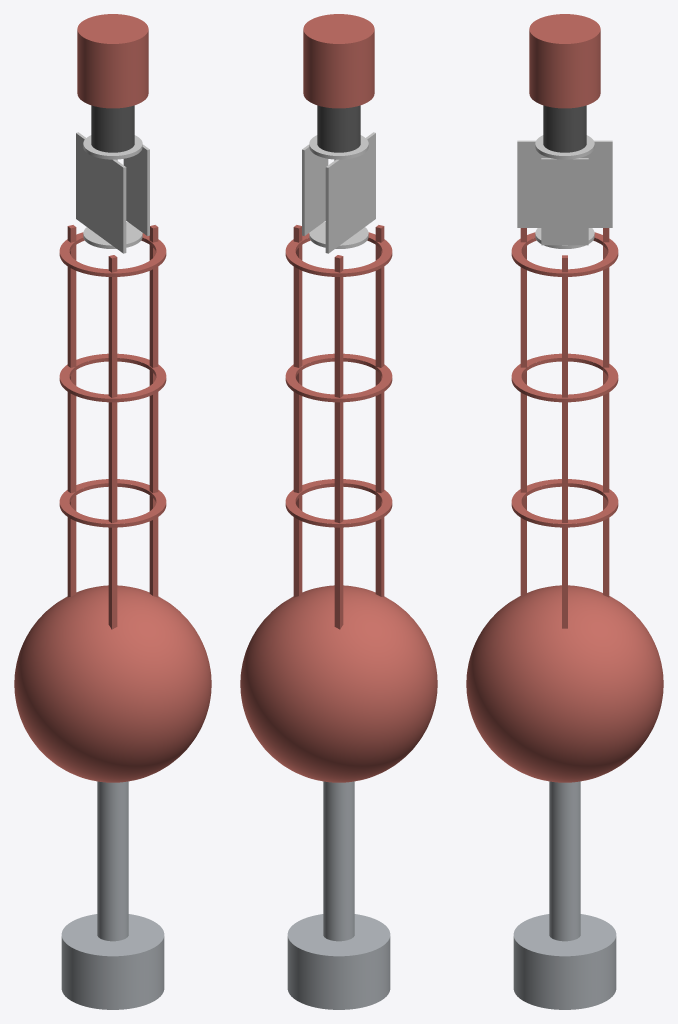
The model's file is esp2024_wind_buoy.glb.
3 renders of one model, left to right at view 1: azimuth 30°, elevation 25°; view 2: azimuth 150°, elevation 25°; view 3: azimuth 270°, elevation 25°, orthographic.
Parts seen in each view (by area): view 1: steel spherical float, lattice tower, tail and ballast, vertical axis wind turbine, topmark (can), lantern; view 2: steel spherical float, lattice tower, tail and ballast, vertical axis wind turbine, topmark (can), lantern; view 3: steel spherical float, tail and ballast, lattice tower, vertical axis wind turbine, topmark (can), lantern.
Boxes of the visible parts, bbox=[...] form: steel spherical float: bbox=[14, 585, 211, 782]; lattice tower: bbox=[59, 225, 166, 629]; tail and ballast: bbox=[61, 781, 164, 1009]; vertical axis wind turbine: bbox=[76, 132, 149, 253]; topmark (can): bbox=[77, 14, 148, 108]; lantern: bbox=[91, 105, 134, 152]; steel spherical float: bbox=[240, 585, 437, 782]; lattice tower: bbox=[285, 225, 392, 629]; tail and ballast: bbox=[287, 781, 390, 1009]; vertical axis wind turbine: bbox=[302, 132, 375, 253]; topmark (can): bbox=[303, 14, 374, 108]; lantern: bbox=[317, 105, 360, 152]; steel spherical float: bbox=[466, 585, 663, 782]; tail and ballast: bbox=[513, 781, 616, 1009]; lattice tower: bbox=[511, 228, 618, 628]; vertical axis wind turbine: bbox=[517, 135, 612, 248]; topmark (can): bbox=[529, 14, 600, 108]; lantern: bbox=[543, 105, 586, 152].
Bounding box in the file's own units: 500 × 2680 × 499.
